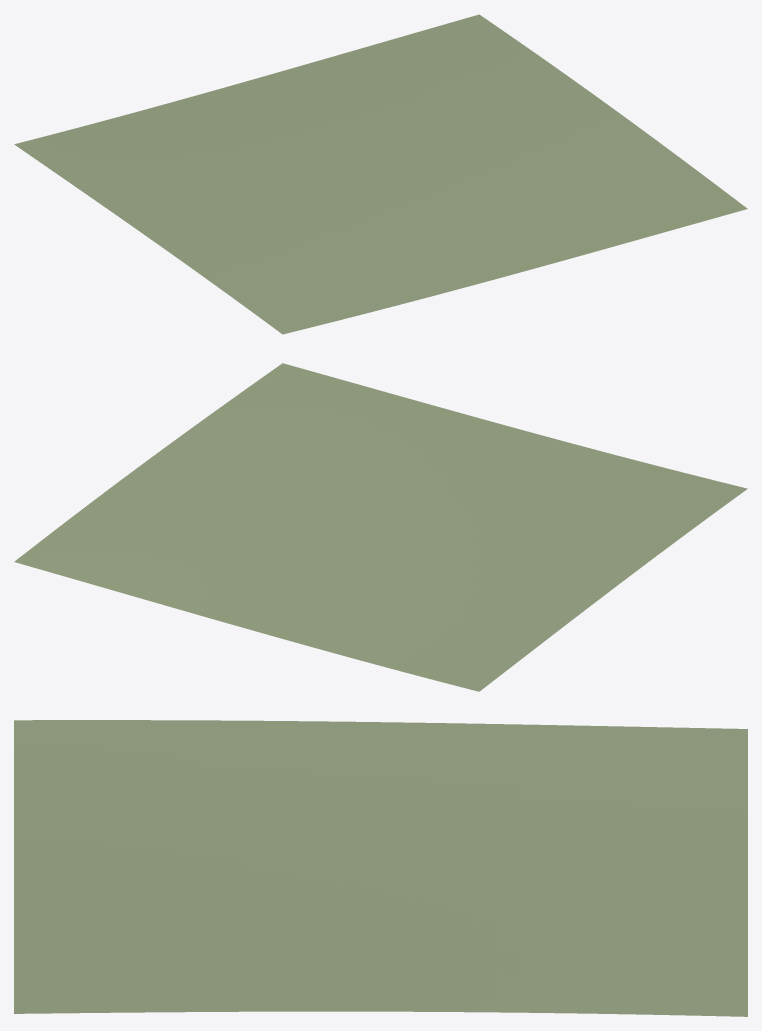
File: expanse-2-28.glb
3 renders of one model, top to bottom at view 1: azimuth 30°, elevation 25°; view 2: azimuth 150°, elevation 25°; view 3: azimuth 270°, elevation 25°, orthographic. The views are drawn at different scales.
Visible parts, largest first — view 1: expanse-2-28; view 2: expanse-2-28; view 3: expanse-2-28.
Boxes of the visible parts, x1,y1,x2,y2 form: expanse-2-28: [14, 14, 747, 334]; expanse-2-28: [14, 363, 747, 691]; expanse-2-28: [14, 720, 747, 1016].
Size of the model in its own units: 256 by 10.63 by 256.
